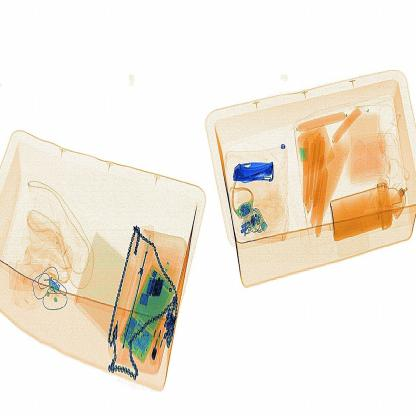knife: (230, 158, 278, 184)
